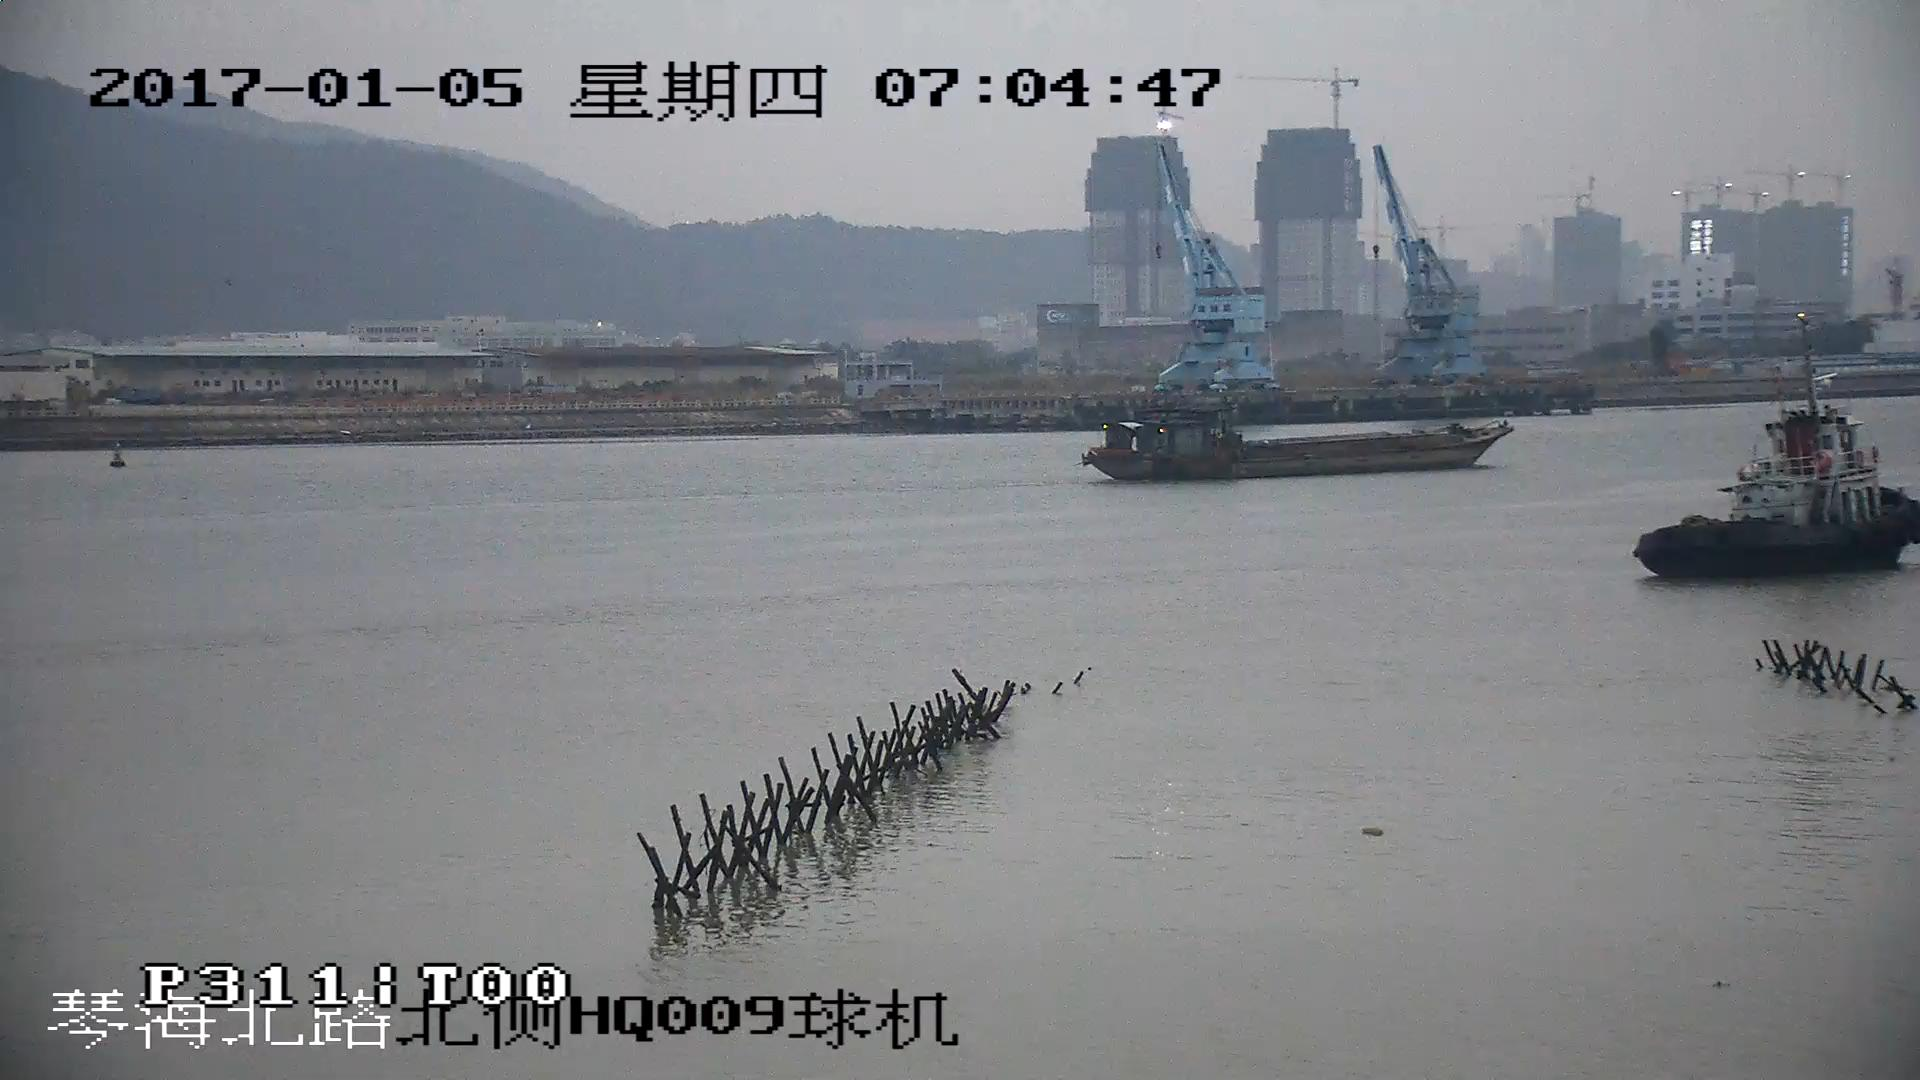bulk cargo carrier: (1082, 414, 1521, 482)
